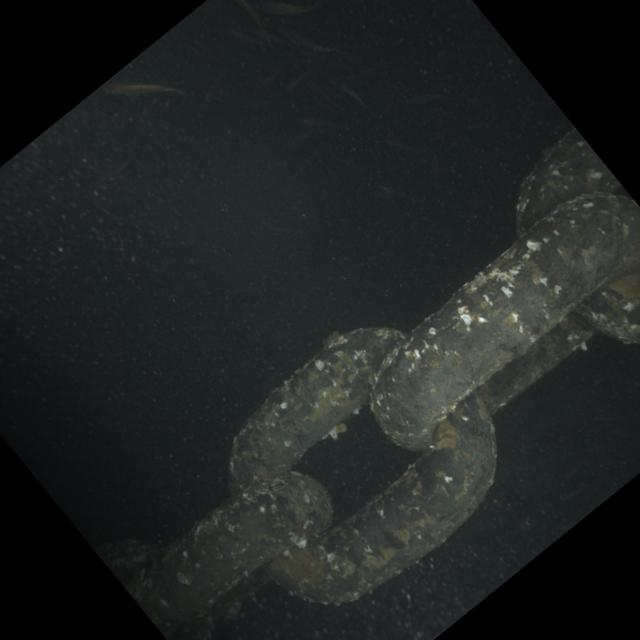ChainLink: (371, 193, 640, 449), (266, 393, 497, 601), (124, 471, 331, 633), (230, 327, 404, 492), (478, 314, 593, 413), (517, 128, 622, 235), (577, 272, 640, 342), (95, 539, 159, 586), (165, 615, 213, 640)
